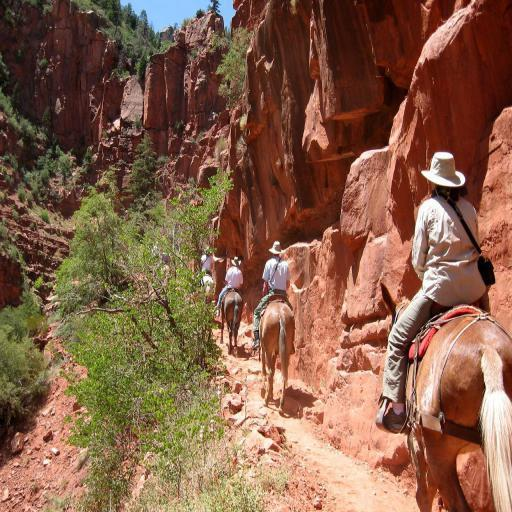horse: (380, 280, 512, 512), (256, 299, 296, 414), (220, 290, 246, 354), (198, 276, 216, 306)
